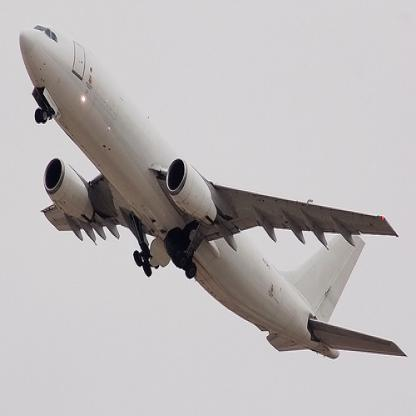aeroplane: (17, 20, 407, 360)
